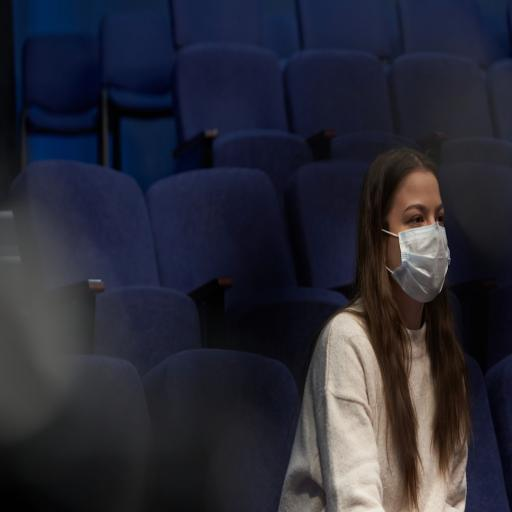face: (388, 168, 443, 234)
